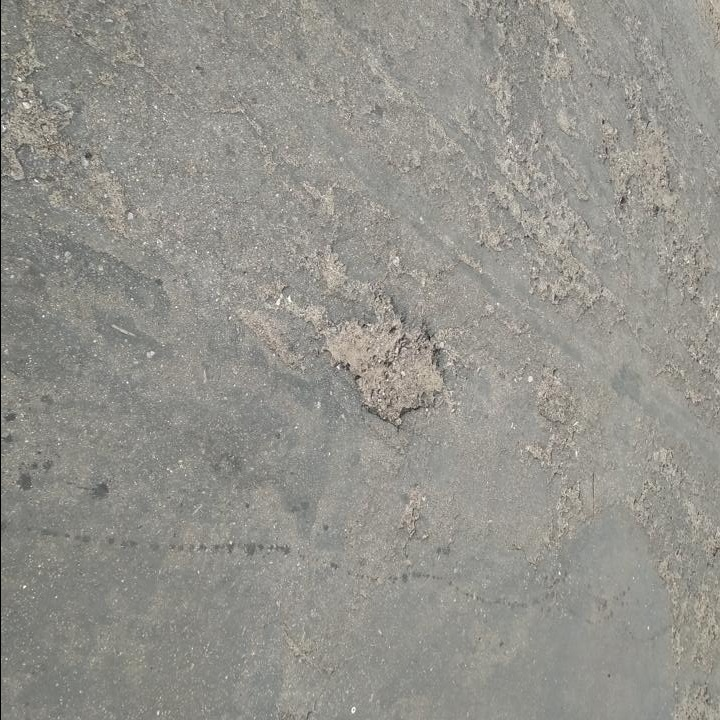pothole: (322, 288, 448, 421), (599, 123, 680, 214)
